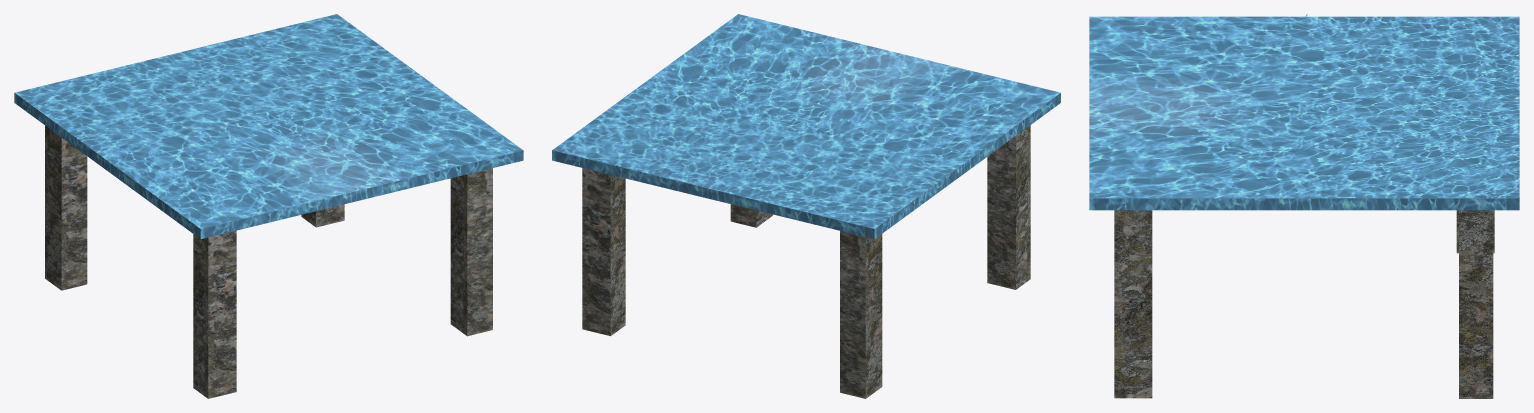
The picture shows the model from 3 angles, left to right: view 1: azimuth 30°, elevation 25°; view 2: azimuth 150°, elevation 25°; view 3: azimuth 270°, elevation 25°; orthographic projection. The views are drawn at different scales.
Visible parts, largest first — view 1: Table; view 2: Table; view 3: Table.
Boxes of the visible parts, x1,y1,x2,y2 form: Table: [14, 14, 523, 398]; Table: [552, 14, 1060, 398]; Table: [1089, 14, 1519, 398].
Bounding box in the file's own units: 1 × 0.5498 × 1.
